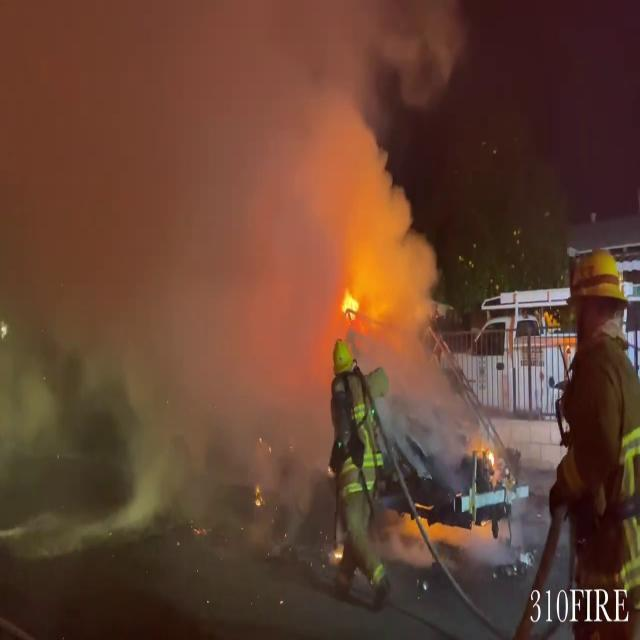Smoke: (0, 0, 470, 475)
